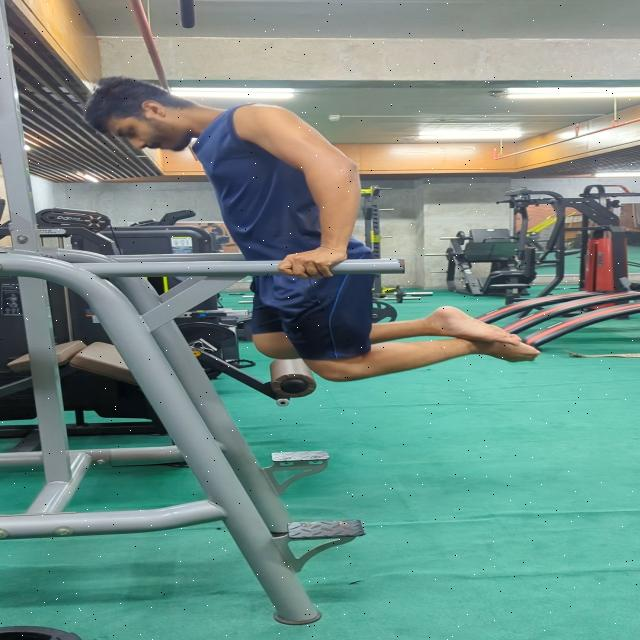Normal_Dips: (71, 68, 560, 390)
